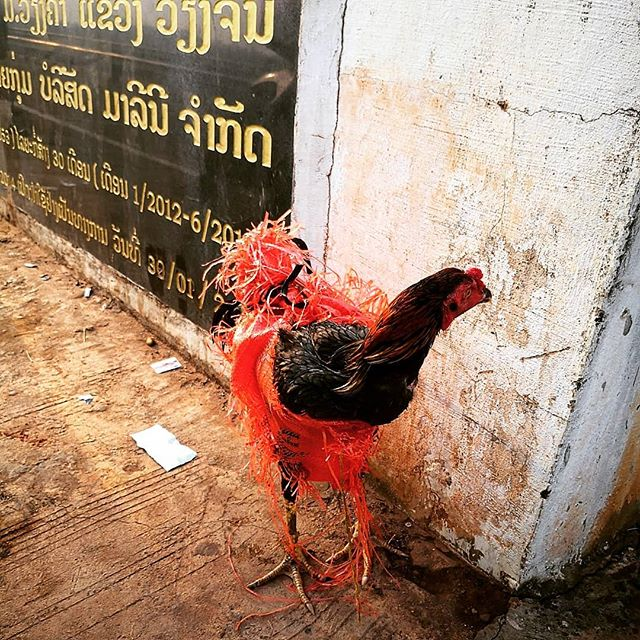animal: (198, 226, 452, 617)
sign: (1, 1, 272, 327)
